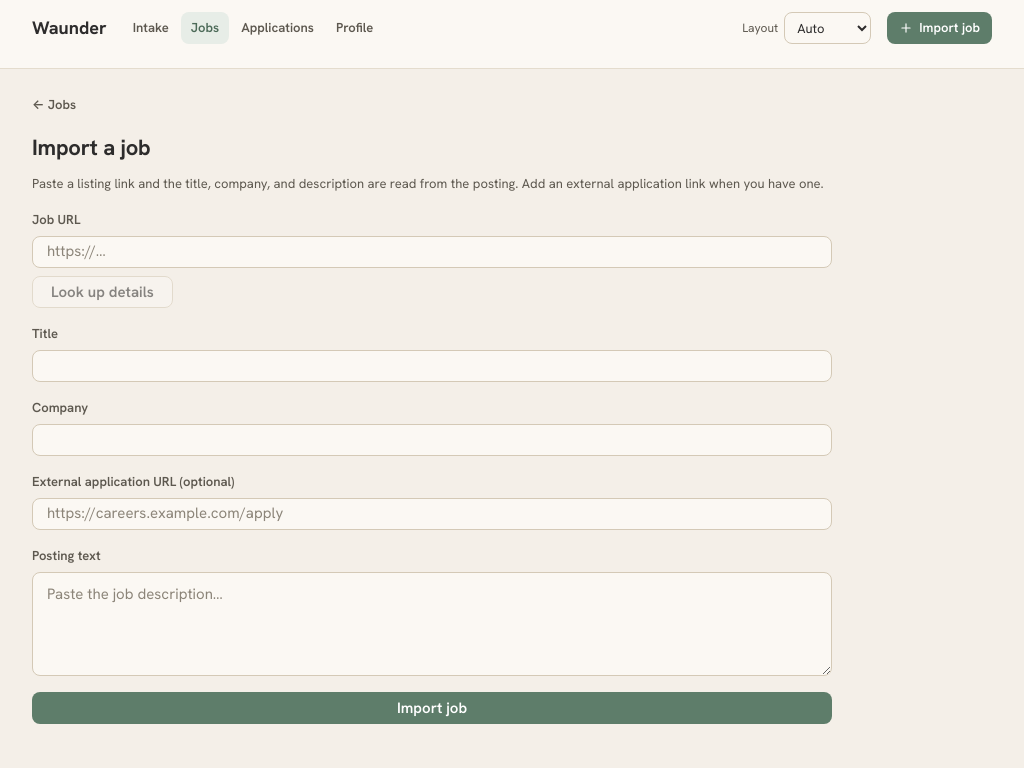
Test: posting lookup › never overwrites a field the owner typed into
The image size is (1024, 768).
Type "My title" into the field with class "manual-entry-title". click: (432, 366)
box: [32, 350, 832, 382]
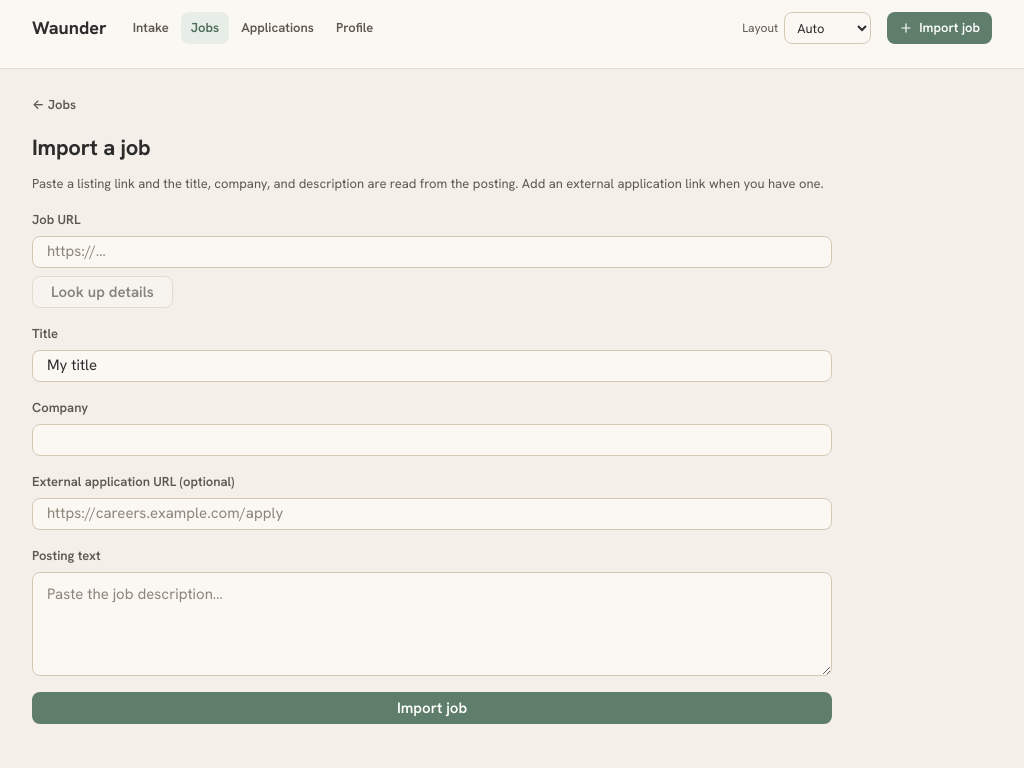
Type "My company" into the field with class "manual-entry-company". click: (432, 440)
box: [32, 424, 832, 456]
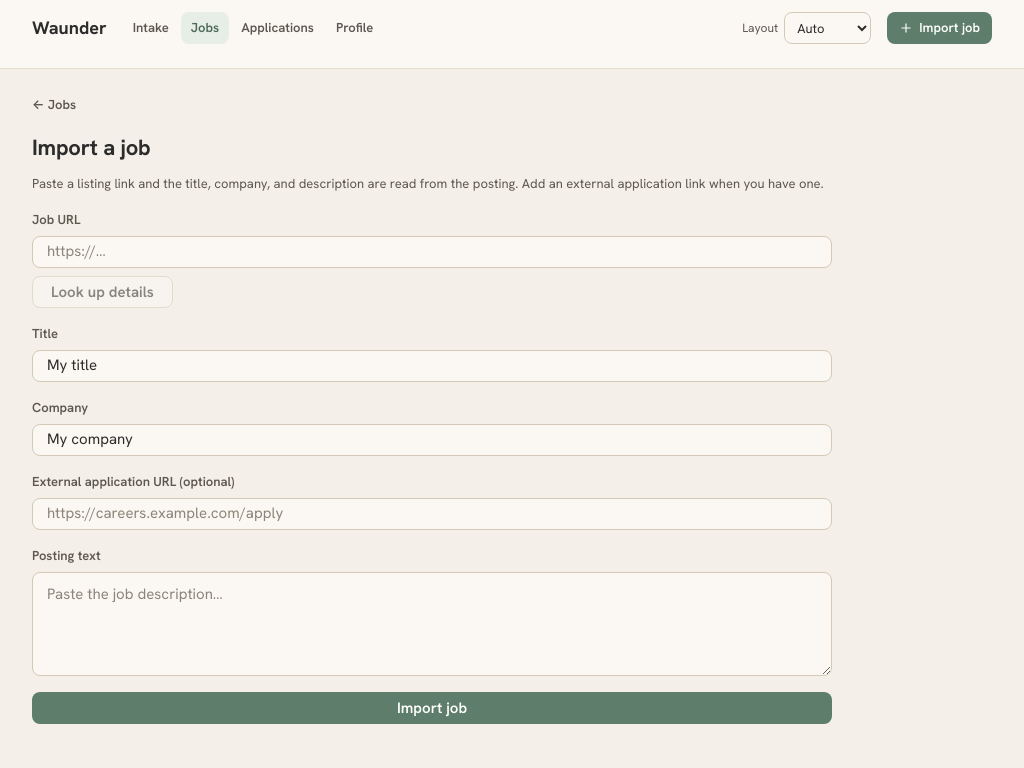
Type "My notes" into the text box with class "manual-entry-text". click: (432, 624)
box: [32, 572, 832, 676]
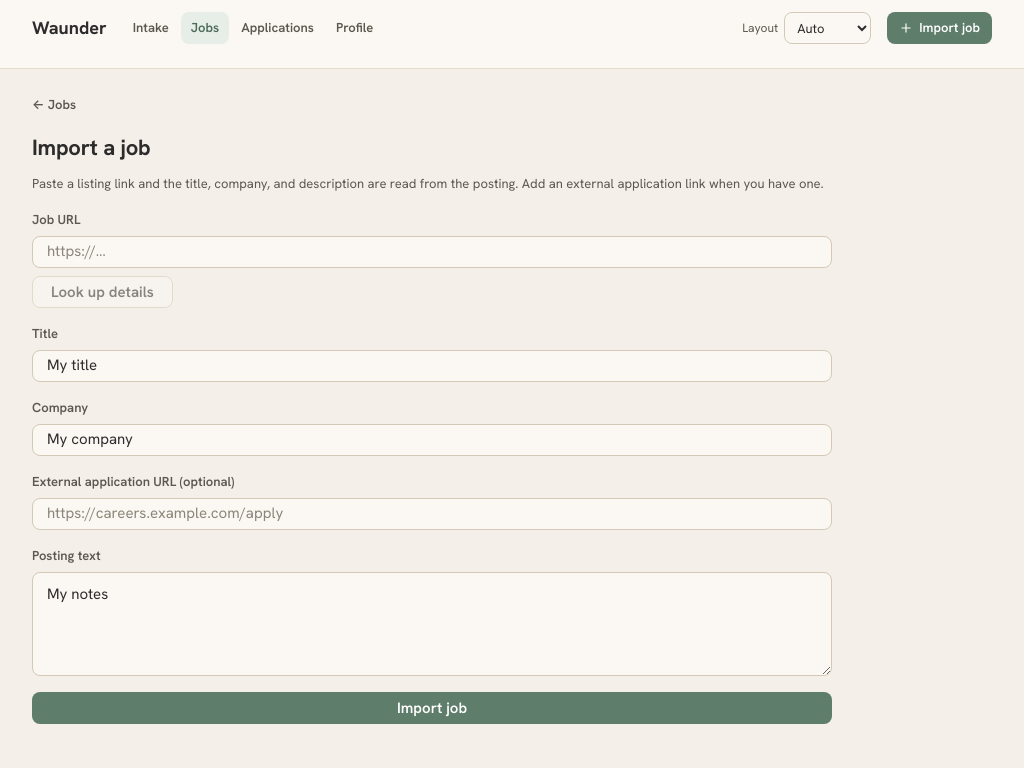
Type "https://www.linkedin.com/jobs/view/4435267449" into the field with class "manual-entry-url". click: (432, 252)
box: [32, 236, 832, 268]
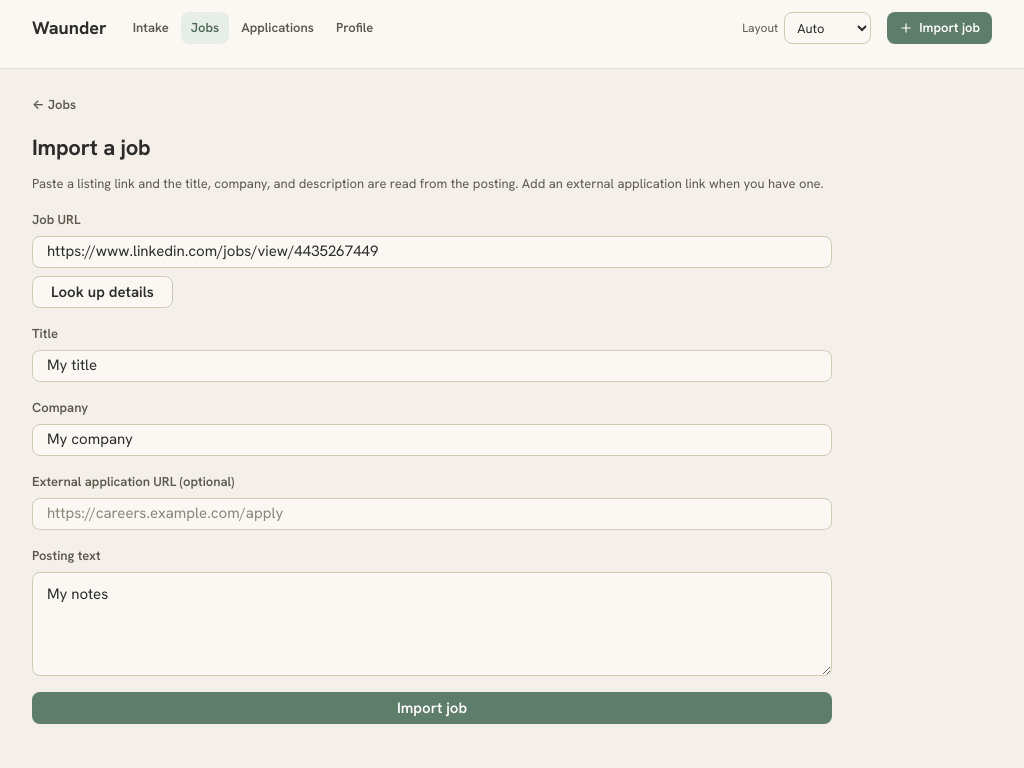
Leave the field with class "manual-entry-url", box [32, 236, 832, 268]
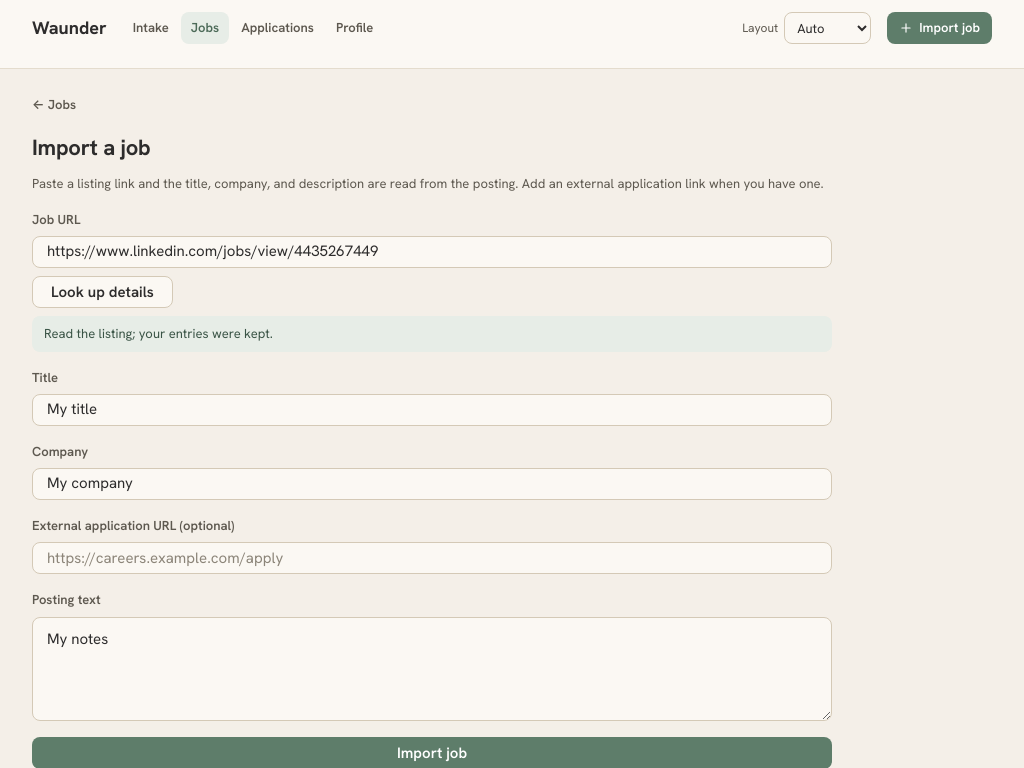
Result: the message "Read the listing; your entries were kept." is shown at [32, 316, 832, 352]
